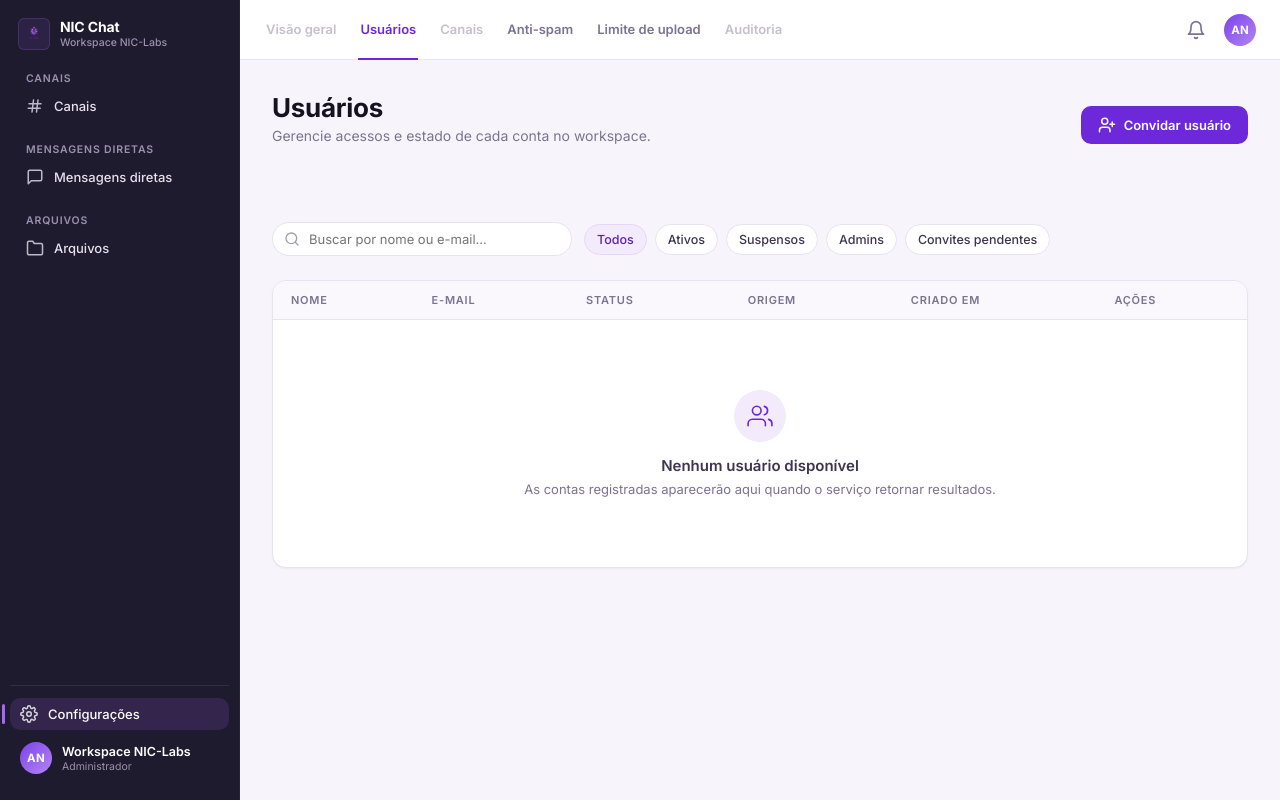
Test: AdminUsersPage — invite button › closing the dialog returns focus to the invite button
Step 1. Click the button "Convidar usuário" → coordinates (1164, 125), box [1081, 106, 1248, 144]
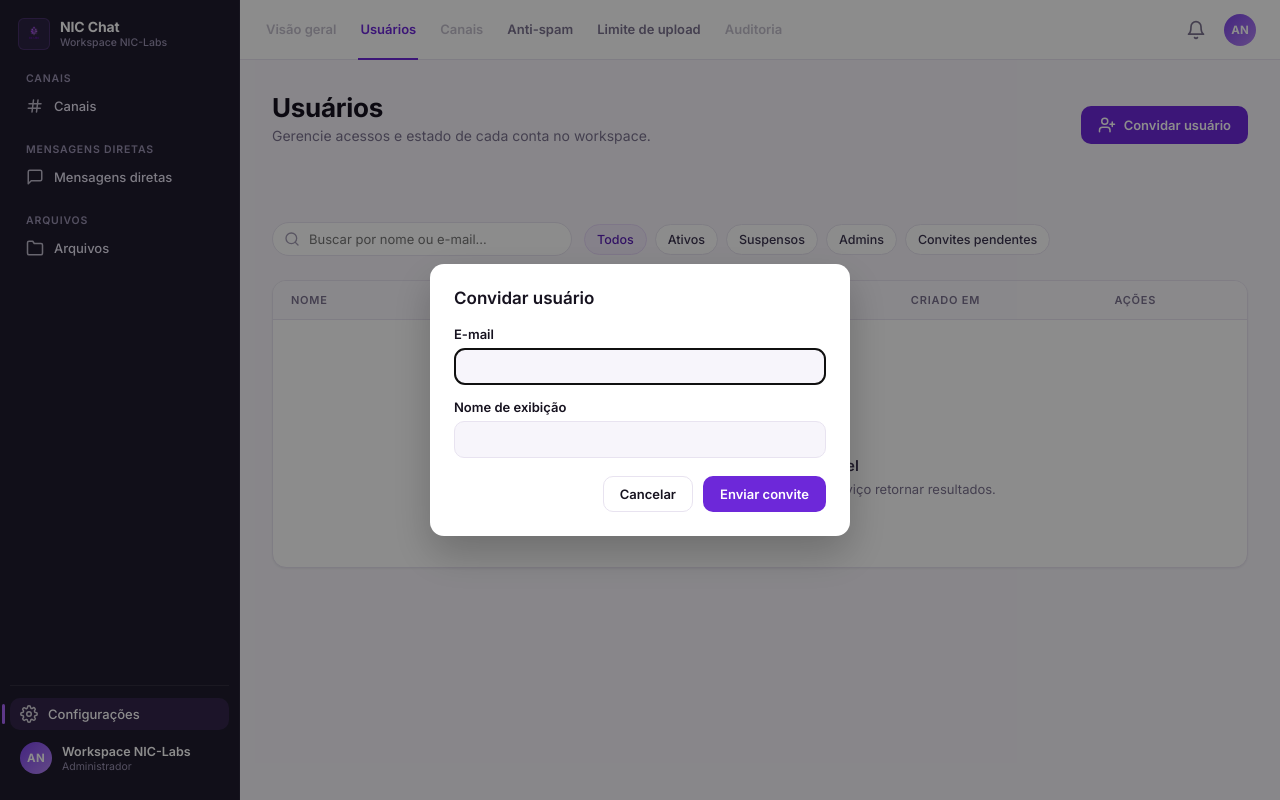
Step 2. Click the button "Cancelar" → coordinates (648, 494), box [603, 476, 693, 512]
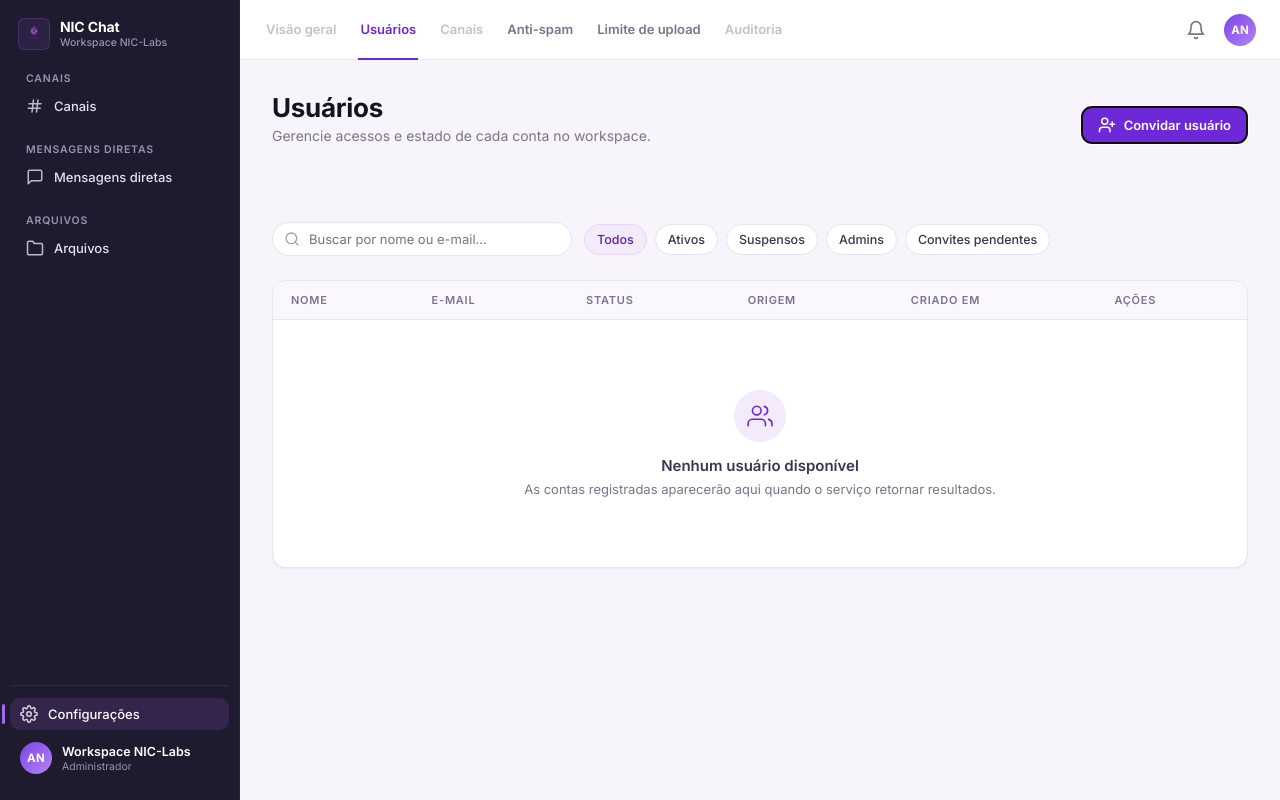
Result: the dialog is gone
